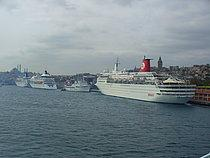Ship: (95, 55, 199, 108), (27, 69, 60, 92)
